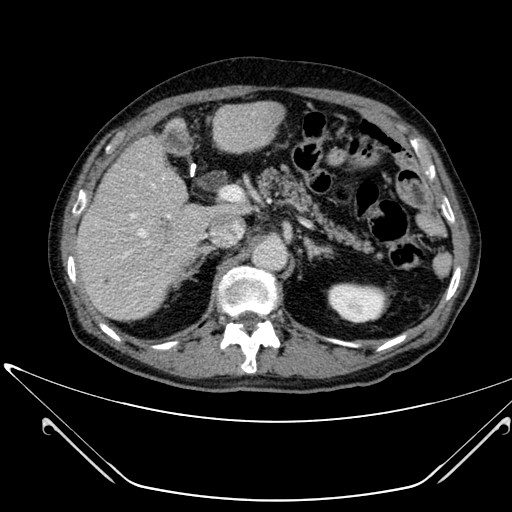clipe: (189, 162, 197, 178)
